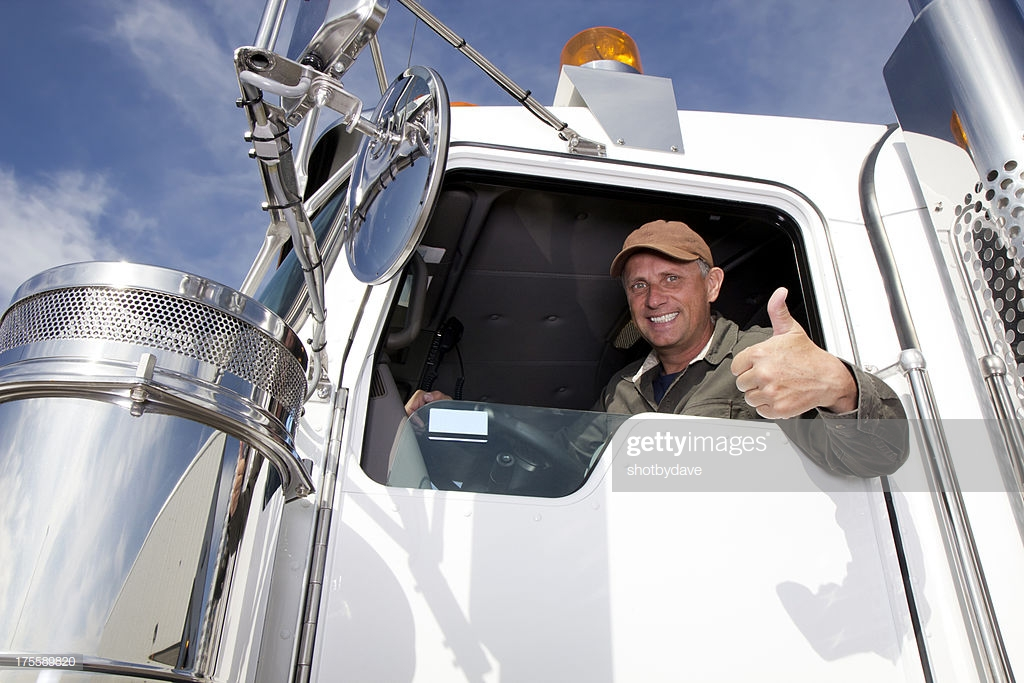thumbsup: (730, 286, 799, 421)
